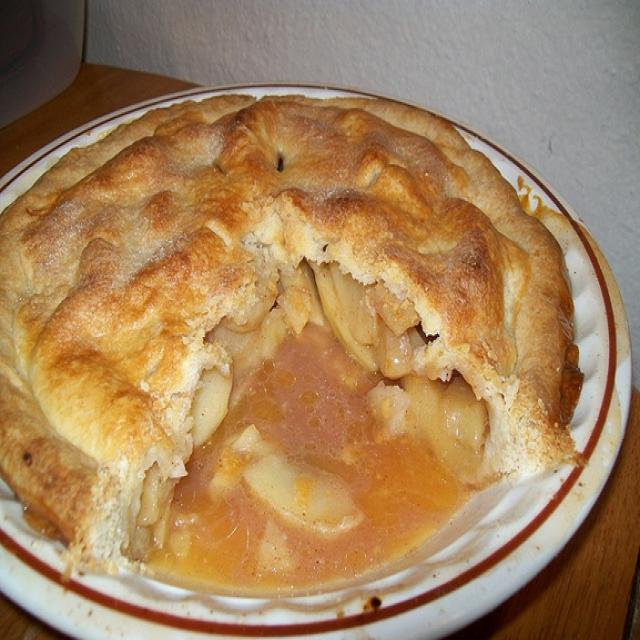Apple: (6, 93, 575, 572)
